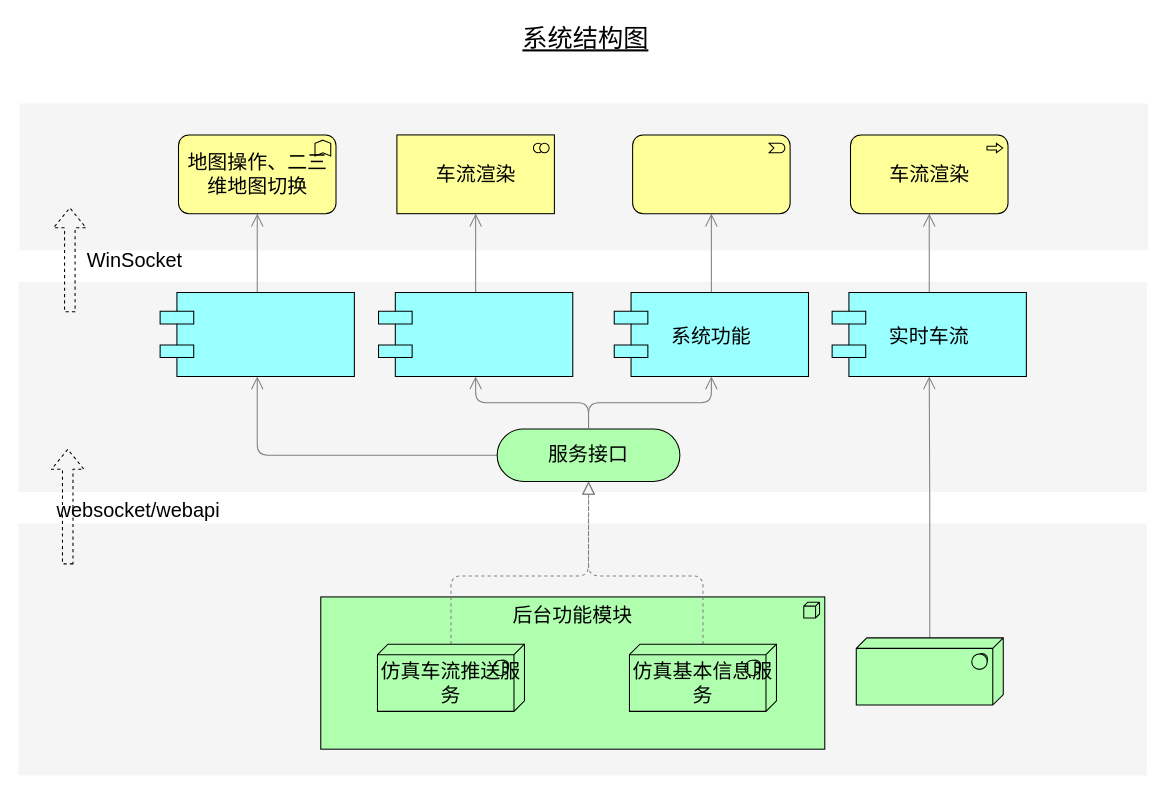
The diagram is 1170 pixels wide and 793 high, and some of its shapes have lost their labels. The shapes that lost their labels are listed below. From the top down, each one's centre as x and y in pixels, then its label:
pixel 711 174: 概览页、主页、感知页
pixel 256 333: 地图控制
pixel 475 333: 仿真车流
pixel 929 671: 第三方平台
